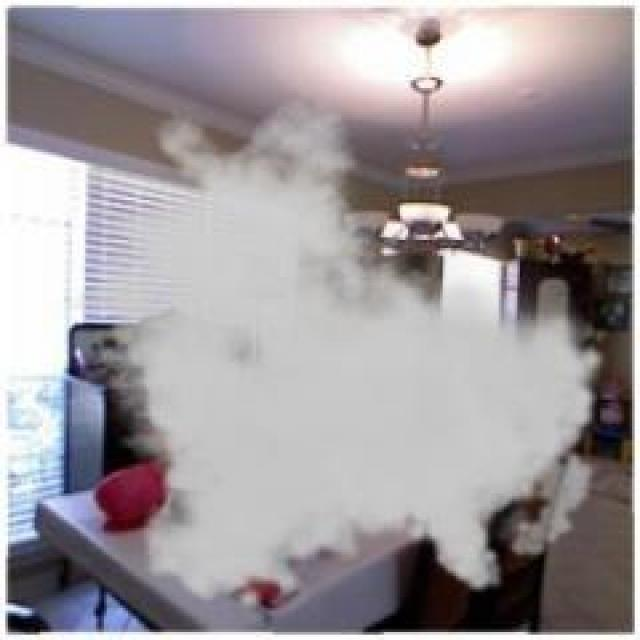Smoke: (45, 97, 608, 615)
